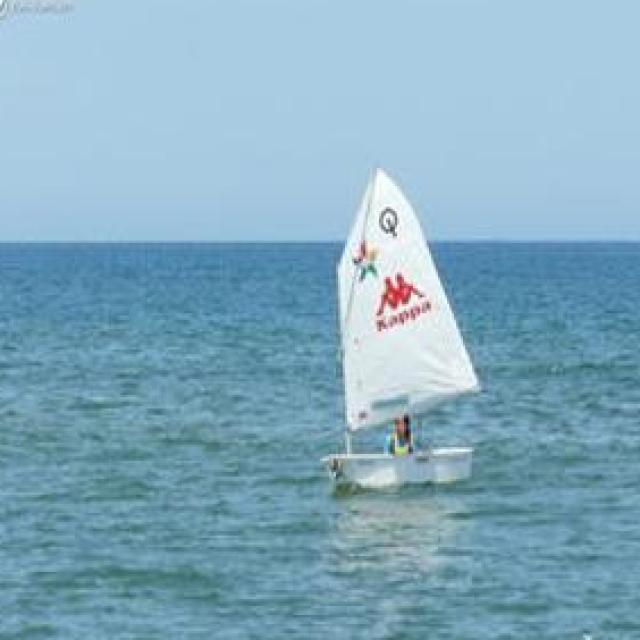sailboat: (278, 162, 505, 498)
